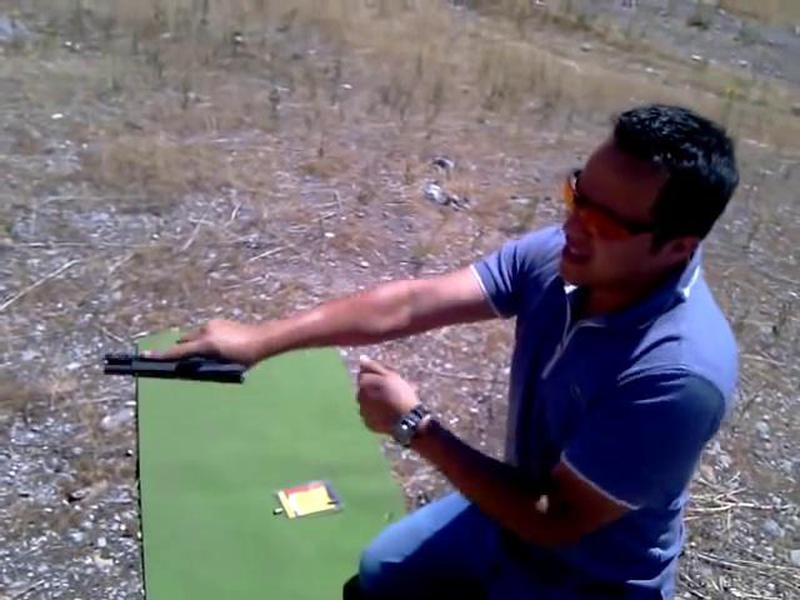Pistola: (93, 326, 280, 396)
